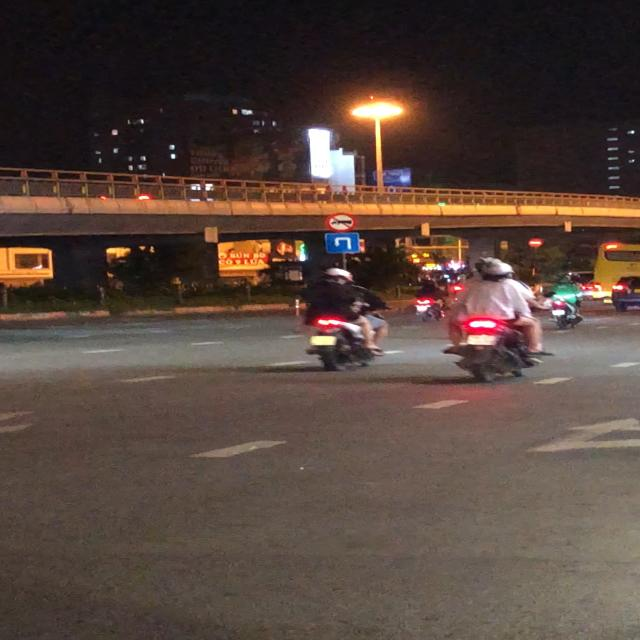Bien bao cam xe so-mi ro-mooc: (324, 211, 358, 233)
